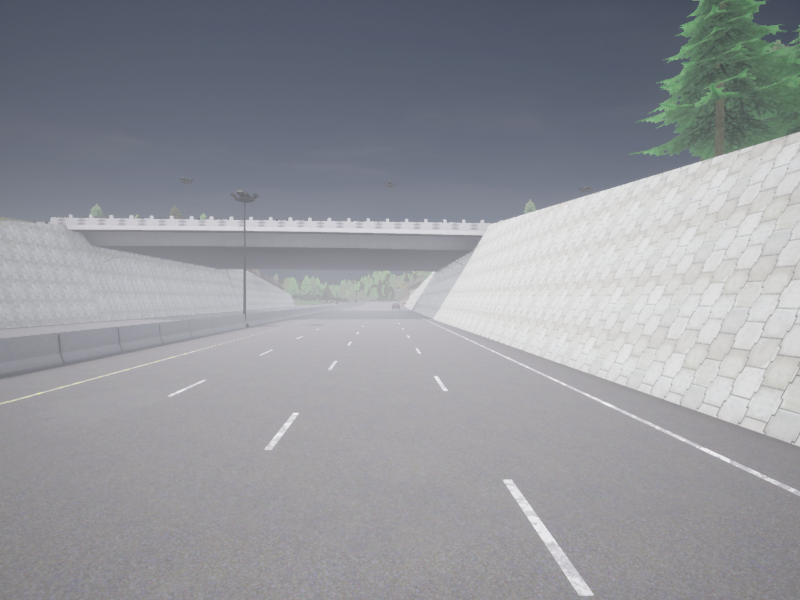vehicle: (392, 303, 399, 308)
